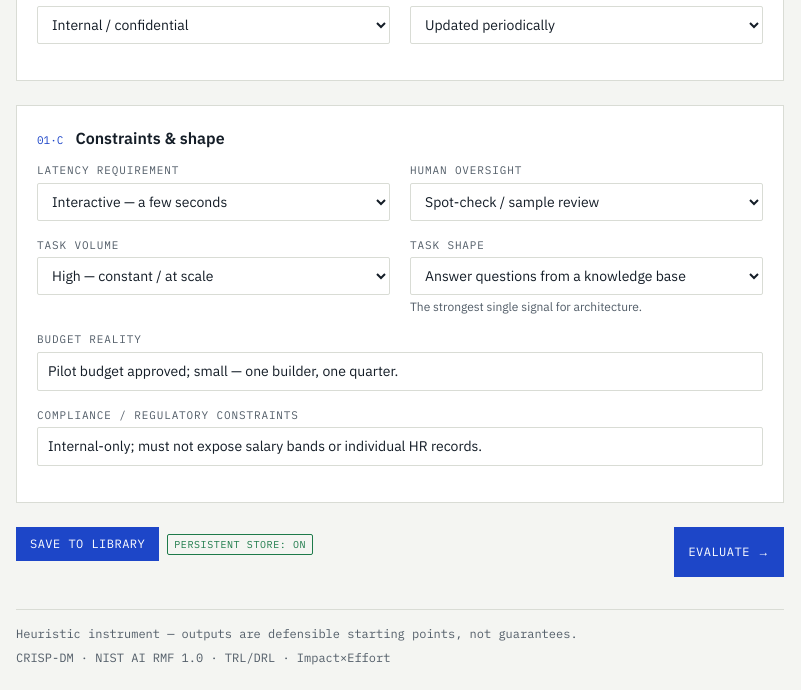
StudioApp — library wiring › saves via POST and reports 'Saved to library' with the server's row
(page scrolled)
Click the button "SAVE TO LIBRARY".
click(88, 544)  # box [16,527,159,561]
(page scrolled)
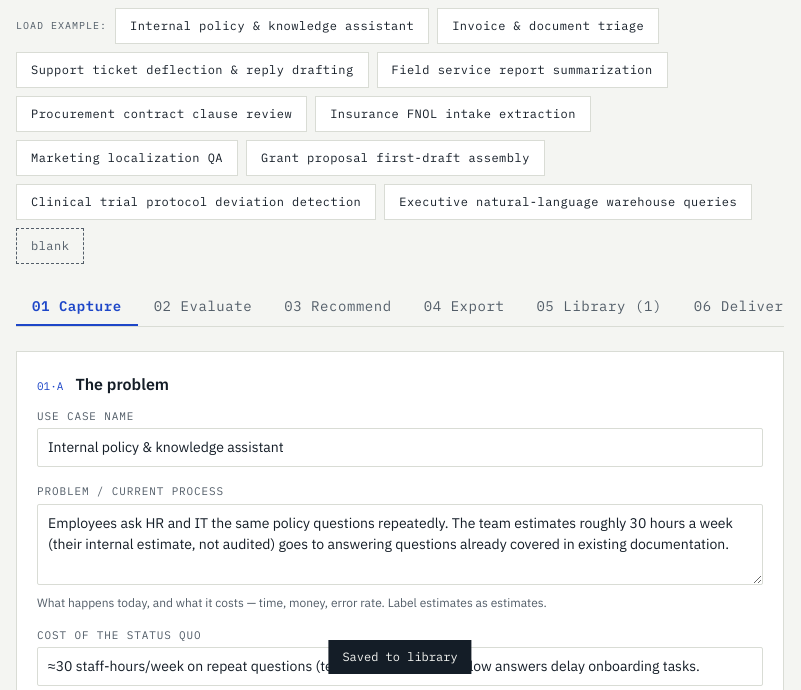
Check: the text "Saved to library" is shown, box [328,640,472,674]
Click the button "05 Library (1)".
click(599, 306)  # box [520,288,678,326]
(page scrolled)
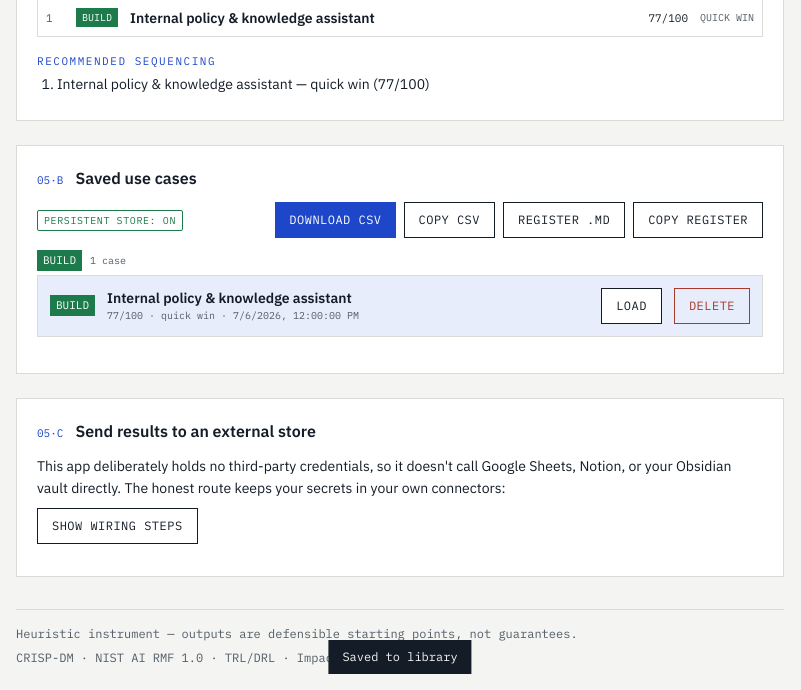
Check: the text "77/100 · quick win · 7/6/2026, 12:00:00 PM" is shown, box [107,309,359,322]
